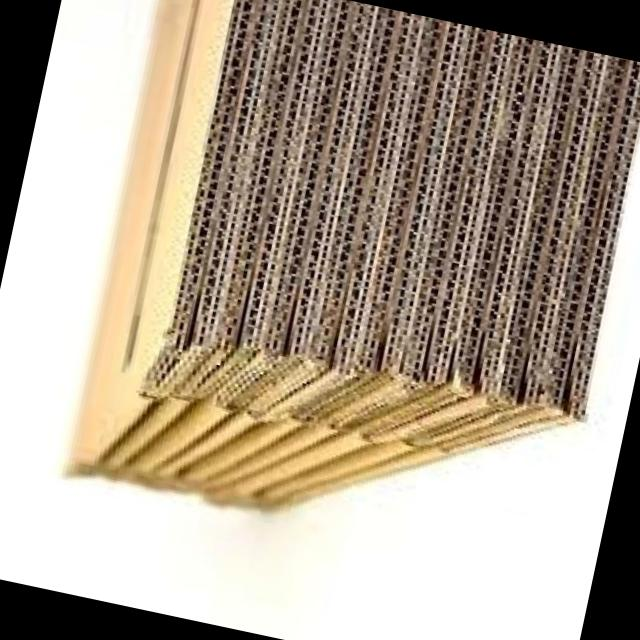cardboard paper: (68, 0, 640, 504)
